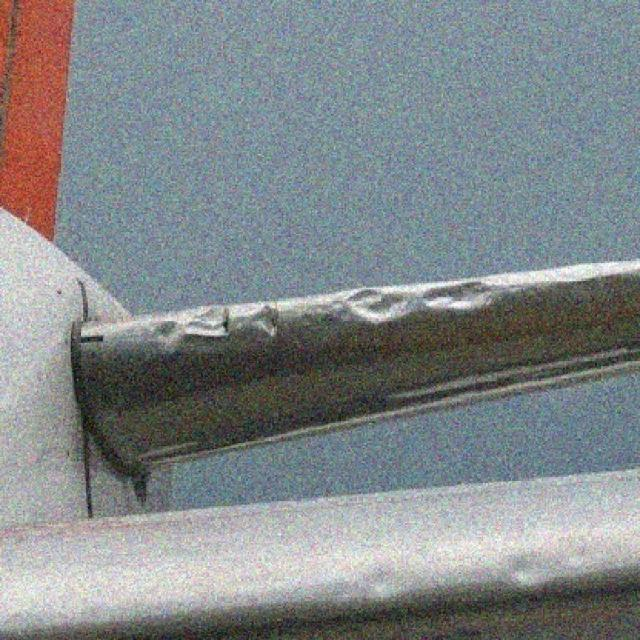dent: (343, 283, 417, 325), (422, 277, 496, 317), (190, 303, 232, 348), (148, 314, 188, 356), (506, 550, 537, 586), (249, 302, 277, 332)
